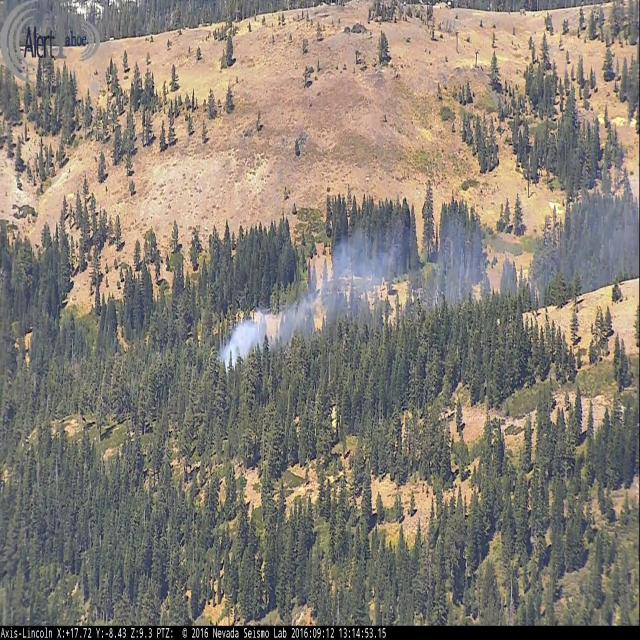smoke: (217, 191, 640, 364)
